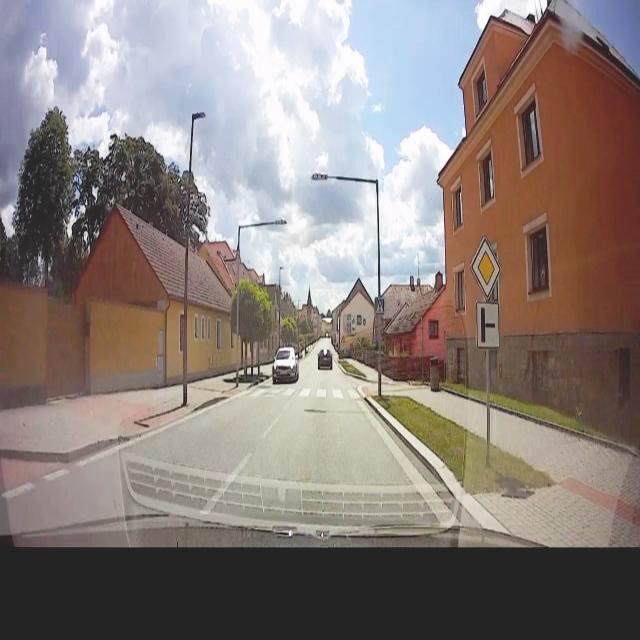Priority road: (462, 227, 510, 307)
